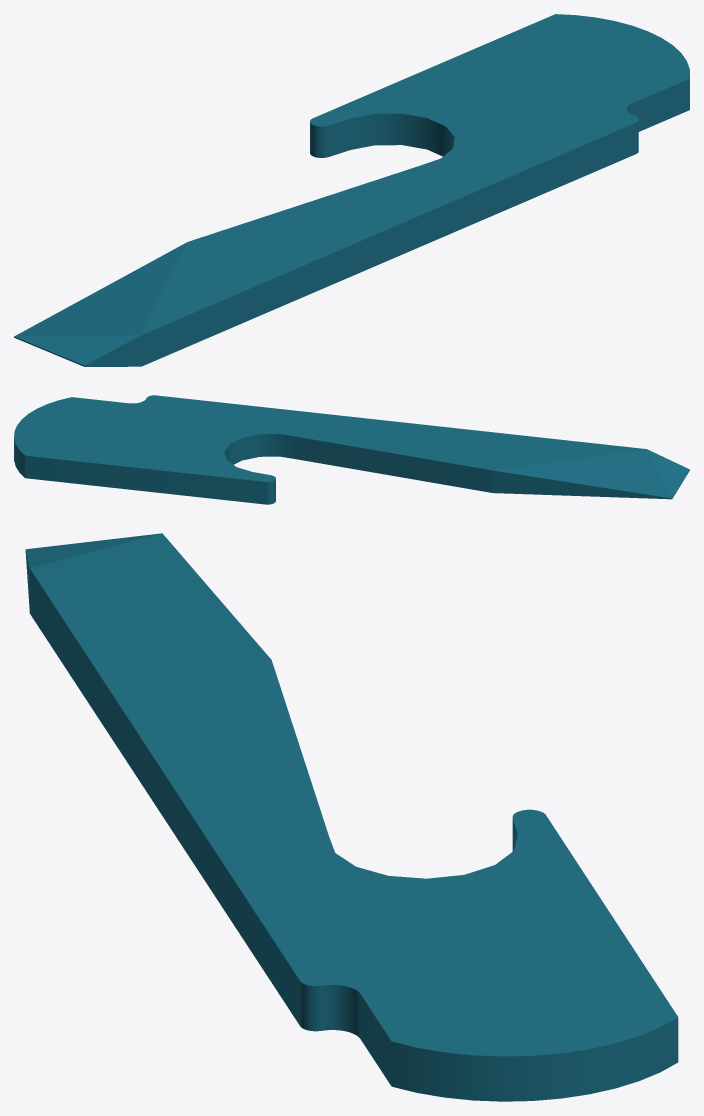
File: original-11.obj
3 renders of one model, top to bottom at view 1: azimuth 30°, elevation 25°; view 2: azimuth 150°, elevation 25°; view 3: azimuth 270°, elevation 25°, orthographic. The views are drawn at different scales.
Visible parts, largest first — view 1: #ID59; view 2: #ID59; view 3: #ID59.
Part boxes in pixels (x1,y1,x2,y2): #ID59: (14,14,689,366); #ID59: (14,395,689,504); #ID59: (25,533,678,1101).
Size of the model in its own units: 0.5182 by 0.02 by 0.2623.
